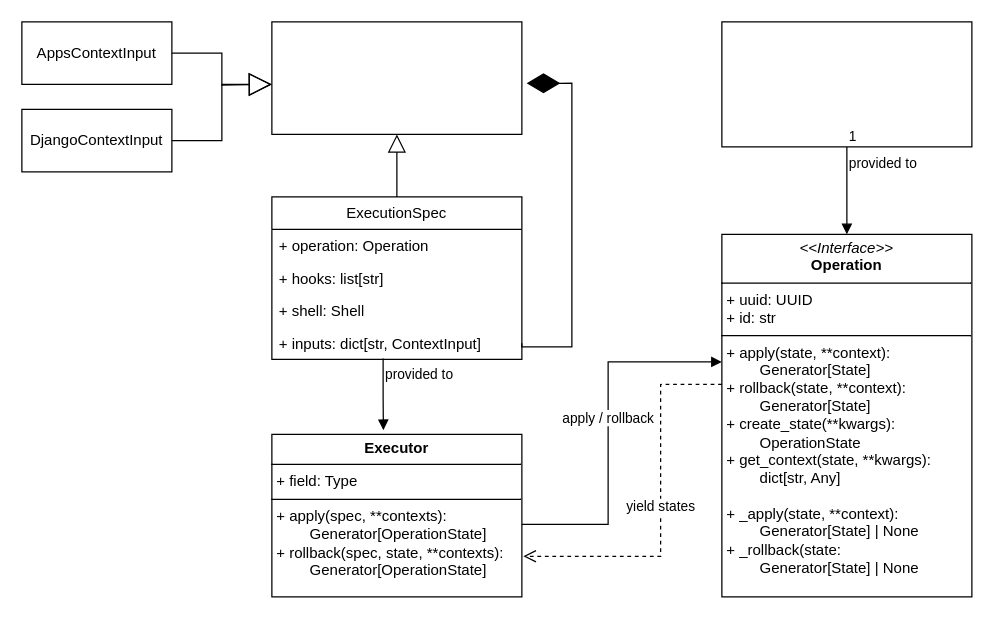
Image size: 994x619. Some labels were removed from this diagram. Each missing label, with the box of its shape:
<<interface>> ContextInput + build_context(context_inputs, **kwargs): Context: (271, 21, 522, 134)
<<Interface>> OperationState + operation_id: str + run_context: RunContext|None: (721, 21, 972, 147)
